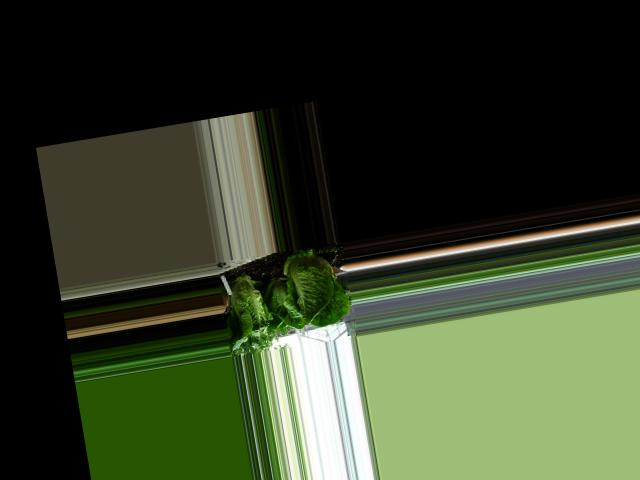lettuce: (222, 262, 277, 348)
